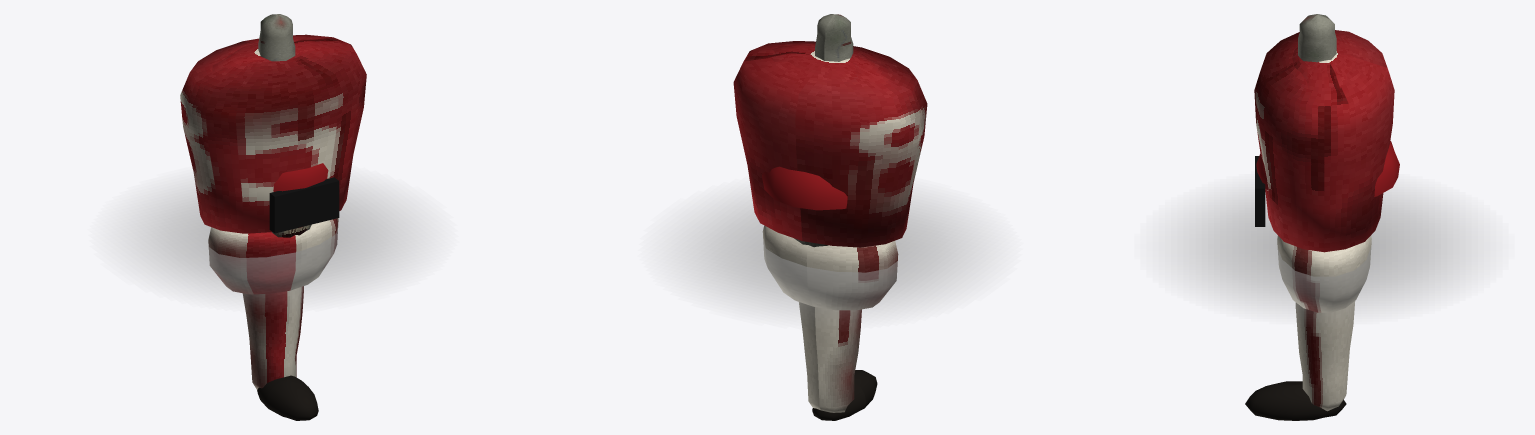
The picture shows the model from 3 angles, left to right: view 1: azimuth 30°, elevation 25°; view 2: azimuth 150°, elevation 25°; view 3: azimuth 270°, elevation 25°; orthographic projection. The views are drawn at different scales.
Visible parts, largest first — view 1: spine__a__3, root__x__11, core__x__0, legL1__x__12, head__ha__6, legL2__x__14, spine__x__1, spine__x__2, head__ha__5; view 2: spine__a__3, root__x__11, core__x__0, legL1__x__12, head__ha__5, spine__x__1, spine__x__2, legL2__x__14; view 3: root__x__11, spine__a__3, core__x__0, legL1__x__12, legL2__x__14, spine__x__1, spine__x__2, head__ha__5, head__ha__6.
Part boxes in pixels (box(x1,y1,x2,y2)): spine__a__3: box(180, 34, 366, 233); root__x__11: box(114, 177, 432, 302); core__x__0: box(208, 218, 338, 294); legL1__x__12: box(242, 286, 303, 389); head__ha__6: box(269, 177, 339, 233); legL2__x__14: box(257, 375, 318, 420); spine__x__1: box(212, 38, 334, 76); spine__x__2: box(258, 14, 295, 61); head__ha__5: box(273, 163, 328, 191); spine__a__3: box(733, 41, 927, 247); root__x__11: box(665, 189, 995, 319); core__x__0: box(762, 225, 898, 310); legL1__x__12: box(799, 302, 861, 412); head__ha__5: box(762, 166, 847, 210); spine__x__1: box(768, 45, 892, 84); spine__x__2: box(815, 14, 853, 61); legL2__x__14: box(812, 370, 877, 420); root__x__11: box(1159, 184, 1489, 315); spine__a__3: box(1254, 30, 1394, 252); core__x__0: box(1277, 236, 1371, 312); legL1__x__12: box(1295, 301, 1355, 411); legL2__x__14: box(1245, 381, 1346, 420); spine__x__1: box(1292, 35, 1356, 92); spine__x__2: box(1298, 14, 1336, 62); head__ha__5: box(1256, 141, 1399, 196); head__ha__6: box(1255, 156, 1265, 226).
Size of the model in its own units: 1.17 by 1.31 by 1.17.
8 materials, 5 textured.
